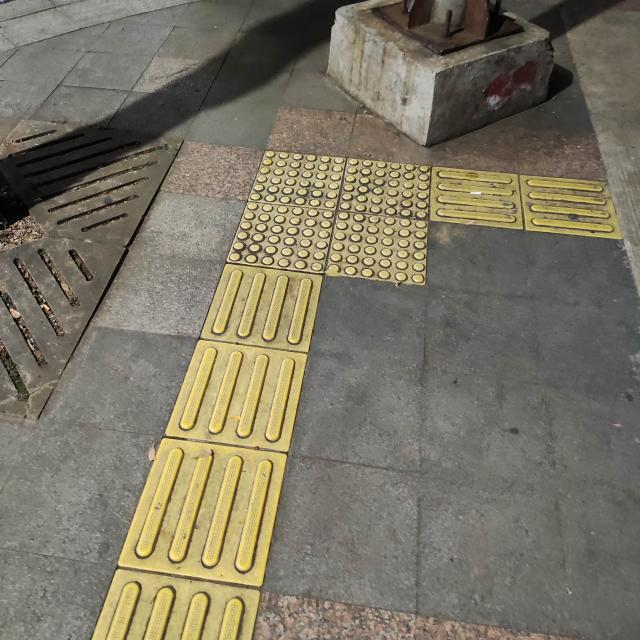kanan: (203, 115, 581, 346)
